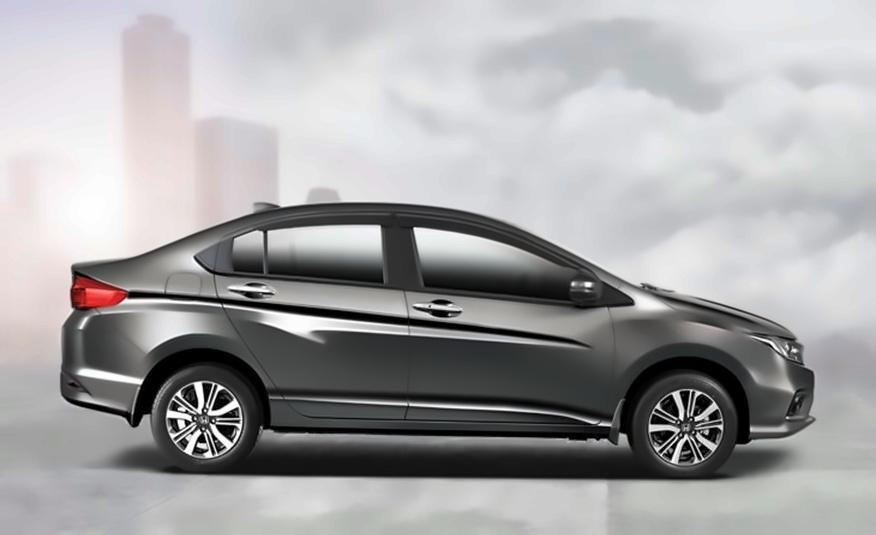Car hood: (644, 283, 795, 341)
Driver-s door - -F-R-: (393, 198, 620, 449)
Fender - -F-R-: (605, 276, 748, 438)
Fender - -R-R-: (88, 232, 286, 407)
Front bumper: (727, 365, 821, 448)
Headlight - -R-: (749, 333, 810, 368)
Passenger-s door - -R-R-: (208, 198, 419, 447)
Rear bumper: (56, 309, 155, 433)
Rear light - -R-: (68, 274, 129, 314)
Side bumper - -R-: (263, 389, 630, 462)
Side mirror - -R-: (563, 272, 603, 315)
